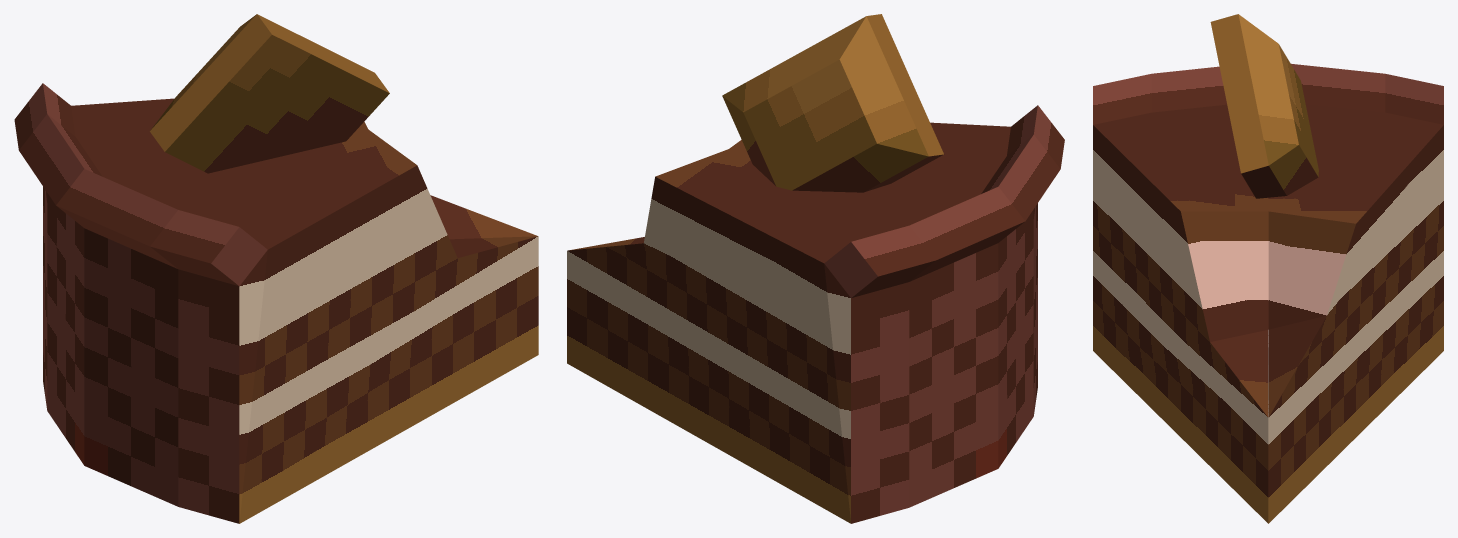
Rendered from cake_bitten.fbx.
3 renders of one model, left to right at view 1: azimuth 30°, elevation 25°; view 2: azimuth 150°, elevation 25°; view 3: azimuth 270°, elevation 25°, orthographic. The views are drawn at different scales.
Visible parts, largest first — view 1: CakeBitten; view 2: CakeBitten; view 3: CakeBitten.
Boxes of the visible parts, bbox=[...] form: CakeBitten: bbox=[14, 14, 538, 523]; CakeBitten: bbox=[567, 14, 1064, 523]; CakeBitten: bbox=[1093, 14, 1443, 523].
Bounding box in the file's own units: 53.12 × 44.84 × 37.5.
Materials: 1 (1 with a texture image).
